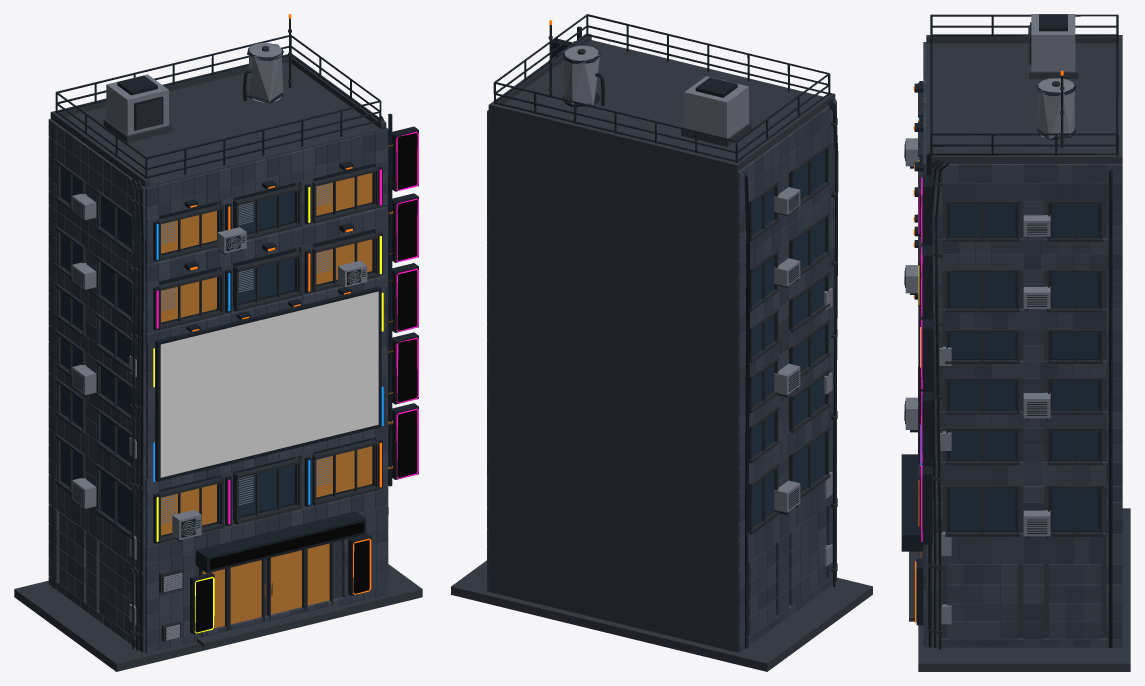
File: runner-building-02.glb
3 views of the same model, side by side, from view 1: azimuth 30°, elevation 25°; view 2: azimuth 150°, elevation 25°; view 3: azimuth 270°, elevation 25° (orthographic). The views are drawn at different scales.
Parts seen in each view (by area): view 1: building-02, building-02-ad; view 2: building-02; view 3: building-02.
Part boxes in pixels (x1=…): building-02: x1=14, y1=14, x2=422, y2=671; building-02-ad: x1=160, y1=291, x2=378, y2=477; building-02: x1=451, y1=14, x2=872, y2=671; building-02: x1=901, y1=14, x2=1130, y2=671.
Size of the model in its own units: 5.59 by 9.55 by 3.49.
